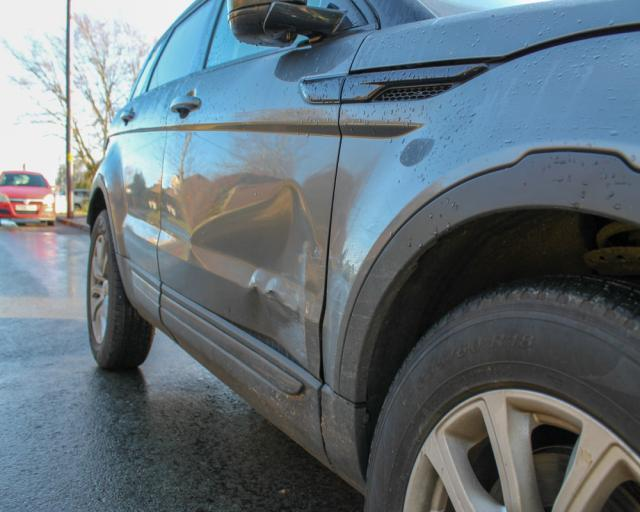dent: (190, 185, 321, 369)
